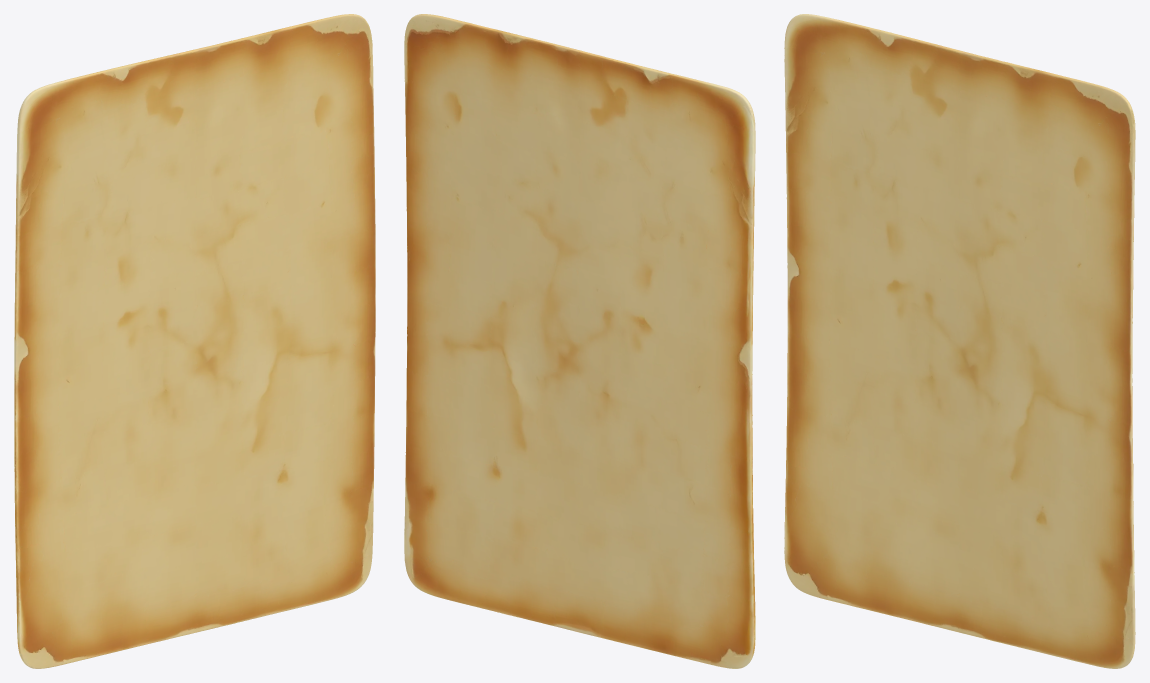
Rendered from sot_front.glb.
3 views of the same model, side by side, from view 1: azimuth 30°, elevation 25°; view 2: azimuth 150°, elevation 25°; view 3: azimuth 330°, elevation 25° (orthographic).
Bounding box in the file's own units: 1.2 × 1.9 × 0.0605.
1 material, 1 textured.
